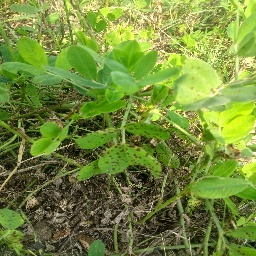GroundNut_Leaf: (176, 58, 222, 109), (97, 145, 160, 179), (192, 177, 250, 202), (67, 46, 100, 80), (15, 36, 48, 70), (223, 114, 255, 143), (133, 50, 161, 81), (127, 122, 170, 140), (239, 15, 256, 58), (1, 207, 24, 231), (31, 139, 60, 153), (40, 121, 60, 137)
